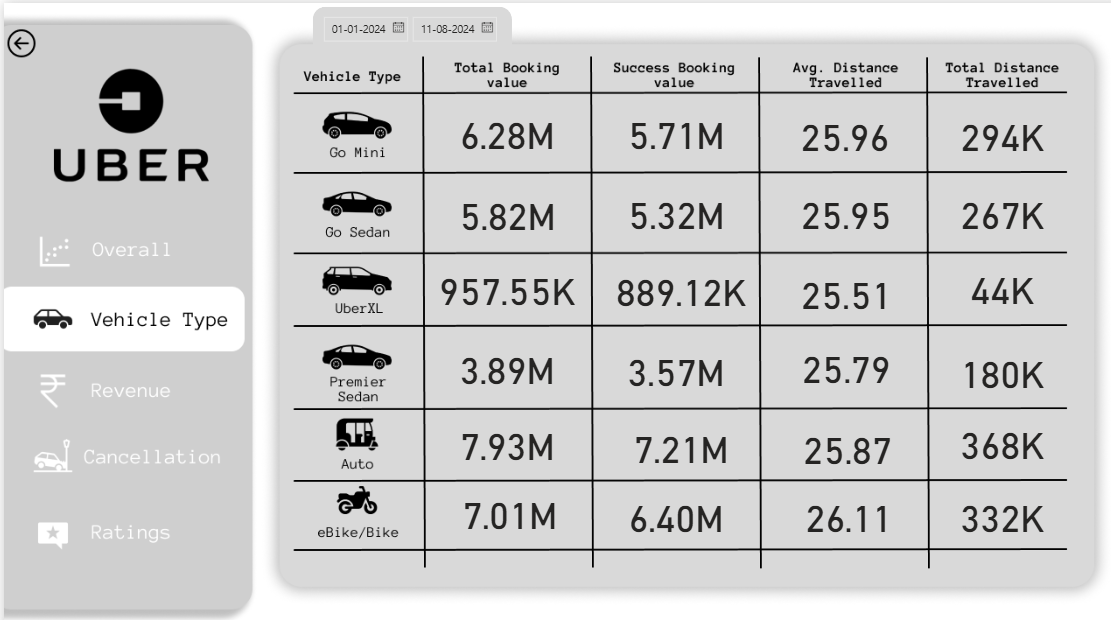

The page's visual inventory and layout, read from the dashboard file:
{"tool":"powerbi","page":{"name":"Vechical Type","canvas":[1280,720],"ordinal":2},"visuals":[{"type":"actionButton","box":[9.3,258.8,254.6,52.6],"z":0},{"type":"actionButton","box":[9.3,416.5,254.6,53.6],"z":1000},{"type":"actionButton","box":[5.2,503.1,254.6,50.5],"z":2000},{"type":"actionButton","box":[5.2,579.4,254.6,53.6],"z":3000},{"type":"actionButton","box":[0,326.8,263.9,70.1],"z":4000},{"type":"card","fields":{"Values":["Sum(ncr_ride_bookings.Booking Value)"]},"box":[474.2,103.1,202.1,90.7],"z":5000},{"type":"card","fields":{"Values":["Sum(ncr_ride_bookings.Booking Value)"]},"box":[474.2,193.8,202.1,91.8],"z":6000},{"type":"card","fields":{"Values":["Sum(ncr_ride_bookings.Booking Value)"]},"box":[474.2,280.4,202.1,91.8],"z":7000},{"type":"card","fields":{"Values":["Sum(ncr_ride_bookings.Booking Value)"]},"box":[474.2,370.1,202.1,91.8],"z":8000},{"type":"card","fields":{"Values":["Sum(ncr_ride_bookings.Booking Value)"]},"box":[474.2,456.7,202.1,91.8],"z":9000},{"type":"card","fields":{"Values":["Sum(ncr_ride_bookings.Booking Value)"]},"box":[477.3,536.1,202.1,91.8],"z":10000},{"type":"card","fields":{"Values":["Sum(ncr_ride_bookings.Booking Value)"]},"box":[670.8,103,193.7,90.7],"z":11000},{"type":"card","fields":{"Values":["Sum(ncr_ride_bookings.Booking Value)"]},"box":[670.8,194.6,193.7,90.7],"z":12000},{"type":"card","fields":{"Values":["Sum(ncr_ride_bookings.Booking Value)"]},"box":[676.5,281.5,193.7,90.7],"z":13000},{"type":"card","fields":{"Values":["Sum(ncr_ride_bookings.Booking Value)"]},"box":[670.8,372.2,193.7,90.7],"z":14000},{"type":"card","fields":{"Values":["Sum(ncr_ride_bookings.Booking Value)"]},"box":[676.5,462,193.7,90.7],"z":15000},{"type":"card","fields":{"Values":["Sum(ncr_ride_bookings.Booking Value)"]},"box":[671.7,539.5,193.7,90.7],"z":16000},{"type":"card","fields":{"Values":["Avg(ncr_ride_bookings.Ride Distance)"]},"box":[864.5,103.9,193.7,90.7],"z":17000},{"type":"card","fields":{"Values":["Avg(ncr_ride_bookings.Ride Distance)"]},"box":[865.4,194.6,193.7,90.7],"z":18000},{"type":"card","fields":{"Values":["Avg(ncr_ride_bookings.Ride Distance)"]},"box":[866.4,285.3,193.7,90.7],"z":19000},{"type":"card","fields":{"Values":["Avg(ncr_ride_bookings.Ride Distance)"]},"box":[865.4,370.4,193.7,90.7],"z":20000},{"type":"card","fields":{"Values":["Avg(ncr_ride_bookings.Ride Distance)"]},"box":[867.3,462.9,193.7,90.7],"z":21000},{"type":"card","fields":{"Values":["Avg(ncr_ride_bookings.Ride Distance)"]},"box":[868.3,539.5,193.7,90.7],"z":22000},{"type":"card","fields":{"Values":["Sum(ncr_ride_bookings.Ride Distance)"]},"box":[1044.9,103.9,193.7,90.7],"z":23000},{"type":"card","fields":{"Values":["Sum(ncr_ride_bookings.Ride Distance)"]},"box":[1044.9,193.7,193.7,90.7],"z":24000},{"type":"card","fields":{"Values":["Sum(ncr_ride_bookings.Ride Distance)"]},"box":[1044.9,279.7,193.7,90.7],"z":25000},{"type":"card","fields":{"Values":["Sum(ncr_ride_bookings.Ride Distance)"]},"box":[1044.9,376,193.7,90.7],"z":26000},{"type":"card","fields":{"Values":["Sum(ncr_ride_bookings.Ride Distance)"]},"box":[1044.9,457.3,193.7,90.7],"z":27000},{"type":"card","fields":{"Values":["Sum(ncr_ride_bookings.Ride Distance)"]},"box":[1044.9,539.5,193.7,90.7],"z":28000},{"type":"shape","box":[353.4,4.7,227.7,56.7],"z":29000},{"type":"slicer","title":"DATE","fields":{"Values":["ncr_ride_bookings.Date"]},"box":[353.4,6.6,222,54.8],"z":30000},{"type":"actionButton","box":[0,28.9,41.2,35.1],"z":31000}]}

Visuals, with their boxes in screenshot pixels (x1, y1, x2, y2):
actionButton: [x1=2, y1=225, x2=226, y2=271]
actionButton: [x1=2, y1=363, x2=226, y2=410]
actionButton: [x1=0, y1=439, x2=223, y2=484]
actionButton: [x1=0, y1=507, x2=223, y2=554]
actionButton: [x1=0, y1=284, x2=226, y2=346]
card - Sum(ncr_ride_bookings.Booking Value): [x1=411, y1=88, x2=589, y2=168]
card - Sum(ncr_ride_bookings.Booking Value): [x1=411, y1=168, x2=589, y2=248]
card - Sum(ncr_ride_bookings.Booking Value): [x1=411, y1=244, x2=589, y2=324]
card - Sum(ncr_ride_bookings.Booking Value): [x1=411, y1=323, x2=589, y2=403]
card - Sum(ncr_ride_bookings.Booking Value): [x1=411, y1=399, x2=589, y2=479]
card - Sum(ncr_ride_bookings.Booking Value): [x1=414, y1=468, x2=592, y2=549]
card - Sum(ncr_ride_bookings.Booking Value): [x1=584, y1=88, x2=754, y2=167]
card - Sum(ncr_ride_bookings.Booking Value): [x1=584, y1=168, x2=754, y2=248]
card - Sum(ncr_ride_bookings.Booking Value): [x1=589, y1=245, x2=759, y2=324]
card - Sum(ncr_ride_bookings.Booking Value): [x1=584, y1=324, x2=754, y2=404]
card - Sum(ncr_ride_bookings.Booking Value): [x1=589, y1=403, x2=759, y2=483]
card - Sum(ncr_ride_bookings.Booking Value): [x1=585, y1=471, x2=755, y2=551]
card - Avg(ncr_ride_bookings.Ride Distance): [x1=754, y1=88, x2=925, y2=168]
card - Avg(ncr_ride_bookings.Ride Distance): [x1=755, y1=168, x2=925, y2=248]
card - Avg(ncr_ride_bookings.Ride Distance): [x1=756, y1=248, x2=926, y2=328]
card - Avg(ncr_ride_bookings.Ride Distance): [x1=755, y1=323, x2=925, y2=403]
card - Avg(ncr_ride_bookings.Ride Distance): [x1=757, y1=404, x2=927, y2=484]
card - Avg(ncr_ride_bookings.Ride Distance): [x1=758, y1=471, x2=928, y2=551]
card - Sum(ncr_ride_bookings.Ride Distance): [x1=913, y1=88, x2=1083, y2=168]
card - Sum(ncr_ride_bookings.Ride Distance): [x1=913, y1=167, x2=1083, y2=247]
card - Sum(ncr_ride_bookings.Ride Distance): [x1=913, y1=243, x2=1083, y2=323]
card - Sum(ncr_ride_bookings.Ride Distance): [x1=913, y1=328, x2=1083, y2=407]
card - Sum(ncr_ride_bookings.Ride Distance): [x1=913, y1=399, x2=1083, y2=479]
card - Sum(ncr_ride_bookings.Ride Distance): [x1=913, y1=471, x2=1083, y2=551]
shape: [x1=305, y1=1, x2=505, y2=51]
"DATE" slicer: [x1=305, y1=3, x2=500, y2=51]
actionButton: [x1=0, y1=23, x2=30, y2=53]
